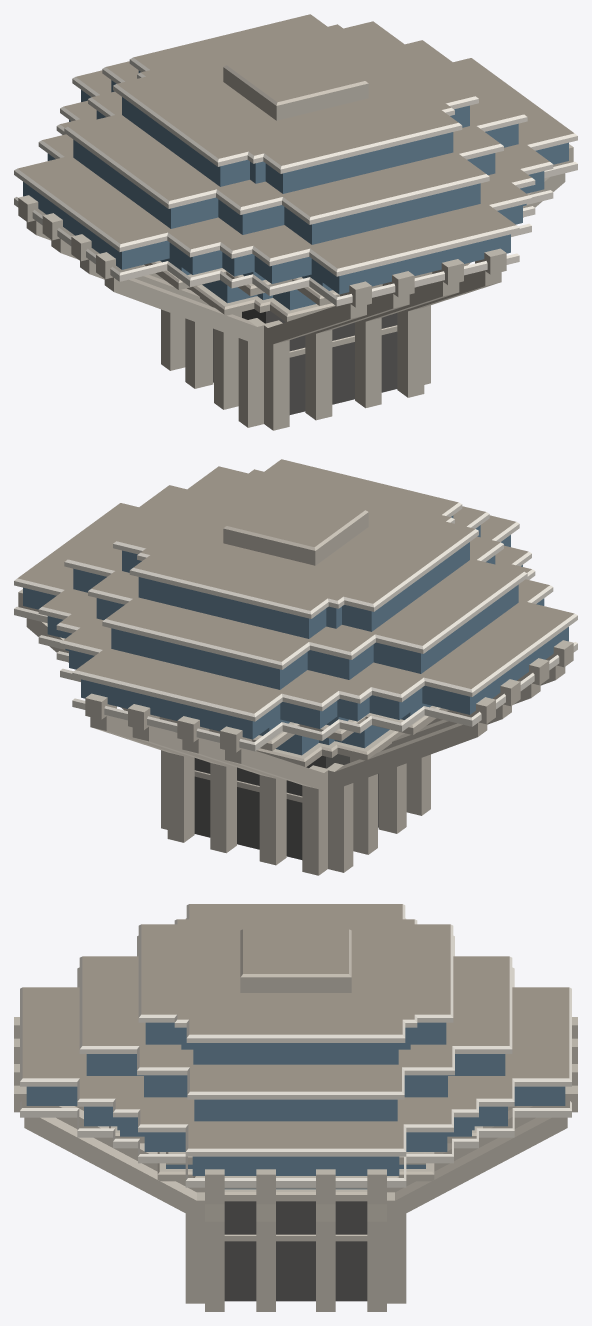
The model's file is sd-geisel-library.glb.
The picture shows the model from 3 angles, top to bottom: view 1: azimuth 30°, elevation 25°; view 2: azimuth 150°, elevation 25°; view 3: azimuth 270°, elevation 25°; orthographic projection. The views are drawn at different scales.
Visible parts, largest first — view 1: Geisel Library; view 2: Geisel Library; view 3: Geisel Library.
Part boxes in pixels (<box>): Geisel Library: <box>14,14,577,430</box>; Geisel Library: <box>14,459,577,875</box>; Geisel Library: <box>14,904,577,1311</box>.
Size of the model in its own units: 66 by 40.5 by 66.
